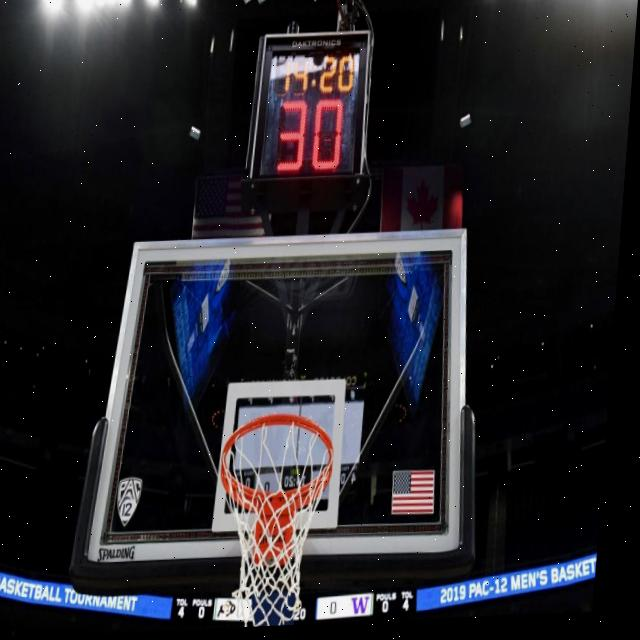hoop: (208, 412, 337, 628)
